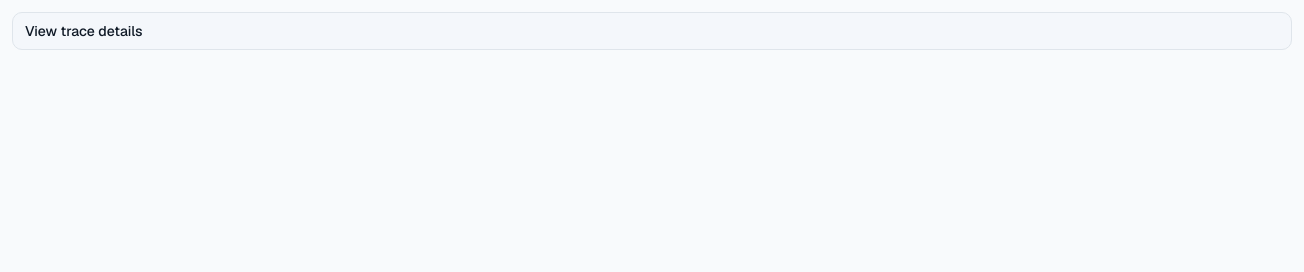
it: AiTracePanel › is collapsed by default and expands on user action
Expected: the text "internal-asset-data" is not shown
Click the button "View trace details" at [84, 31], box top-left (13, 13), bottom-right (1291, 49)
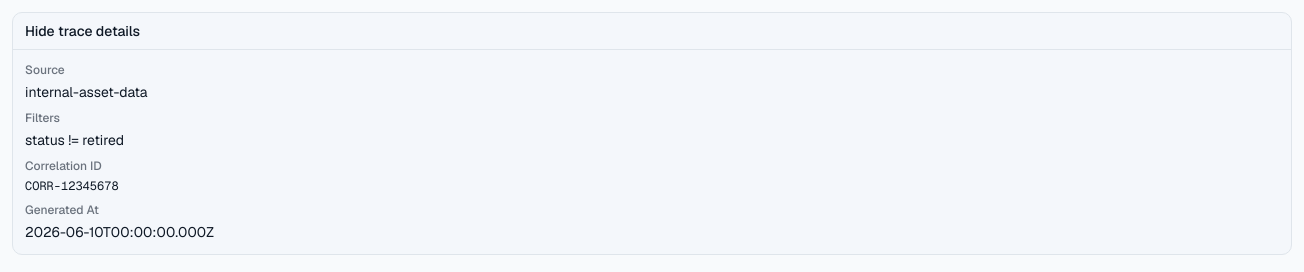
Expected: the text "internal-asset-data" is shown, top-left (25, 83), bottom-right (148, 101)
